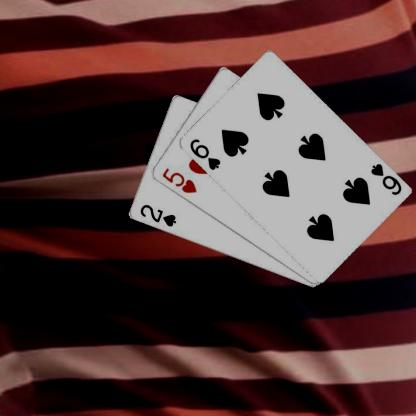2S: (137, 202, 177, 229)
5H: (159, 166, 197, 194)
6S: (368, 161, 403, 196), (187, 136, 221, 171)
